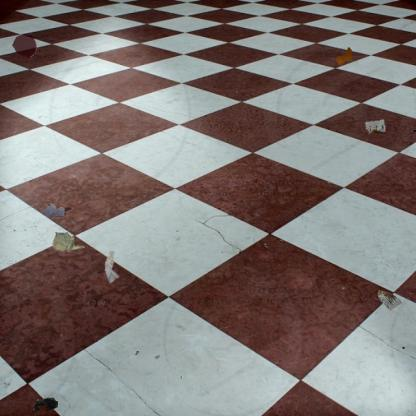dirty: (51, 230, 84, 254), (376, 288, 404, 313), (102, 248, 121, 284), (32, 396, 58, 415), (364, 120, 386, 135), (336, 46, 352, 66)
liquid: (11, 33, 38, 58), (42, 203, 66, 219)
